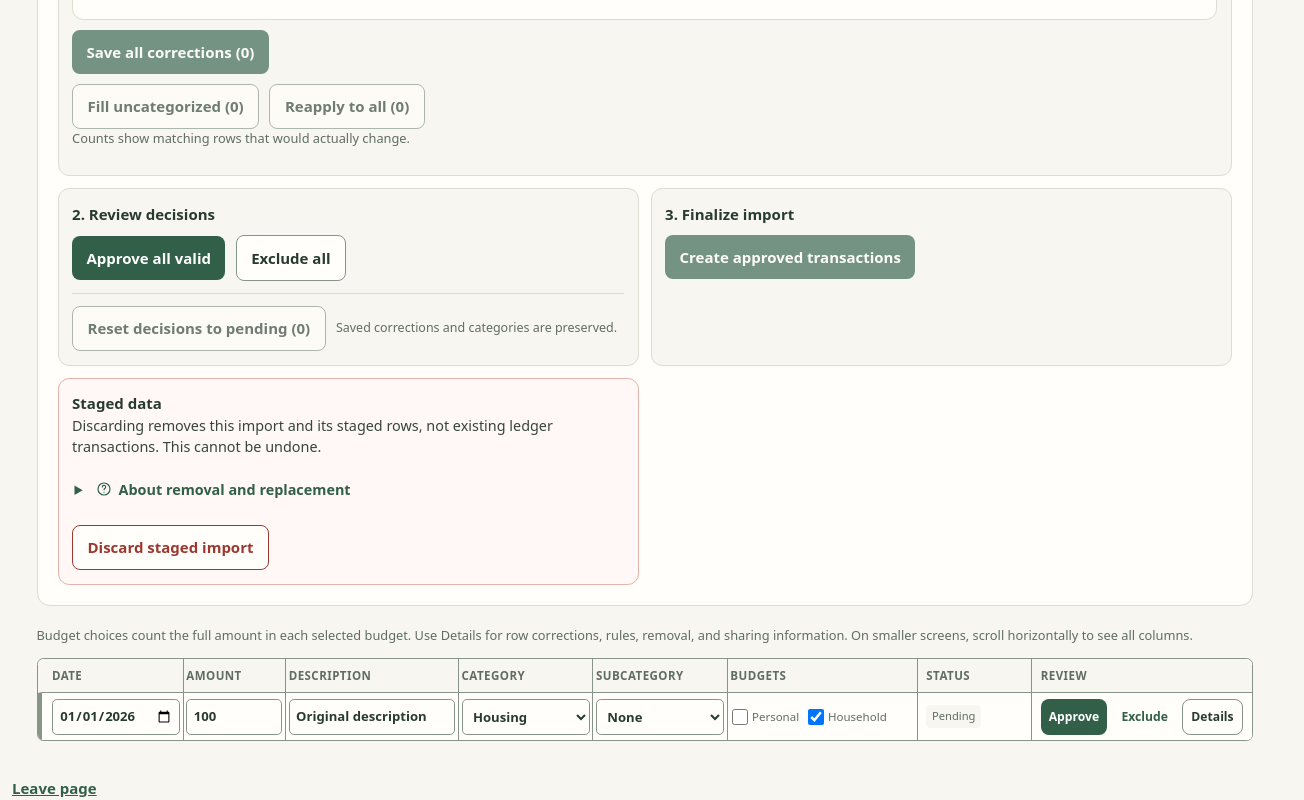
staged import edit protection › keeps corrections after a conflict and requires a read-only reload before another save
The width and height of the screenshot is (1304, 800).
(page scrolled)
Replace the text in the field named "Description" with "Keep conflict correction": (372, 717) [289,699,455,735]
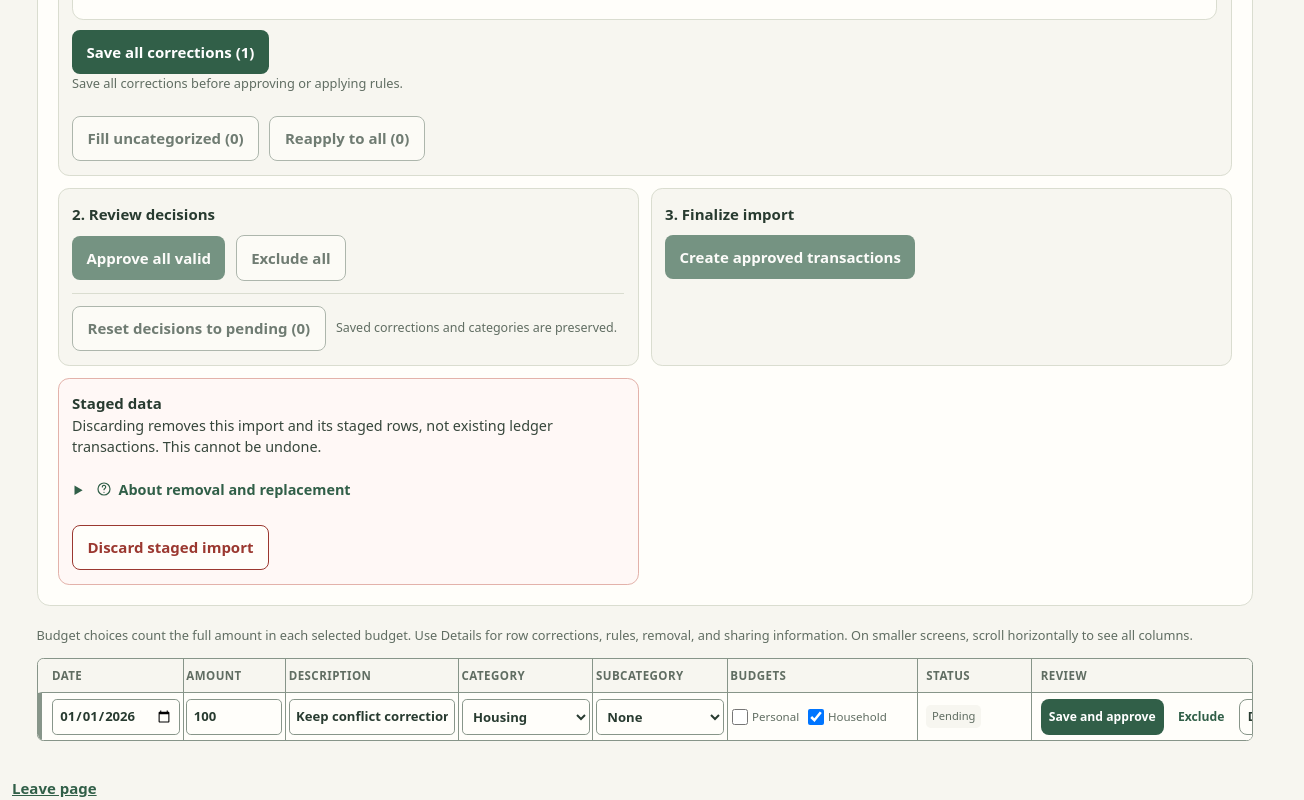
Click the button "Save all corrections (1)": click(170, 52) [72,30,269,74]
(page scrolled)
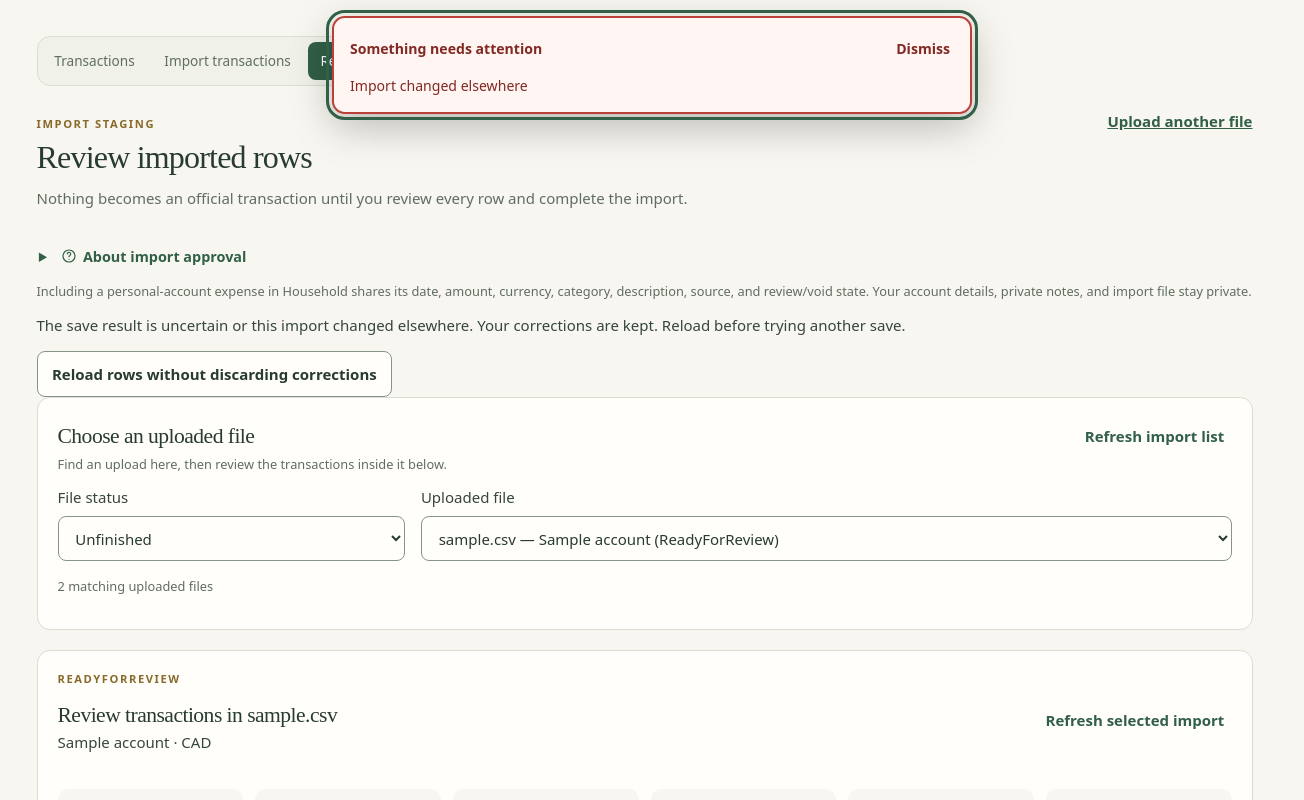
Click the button "Reload rows without discarding corrections": click(214, 374) [36,351,392,397]
(page scrolled)
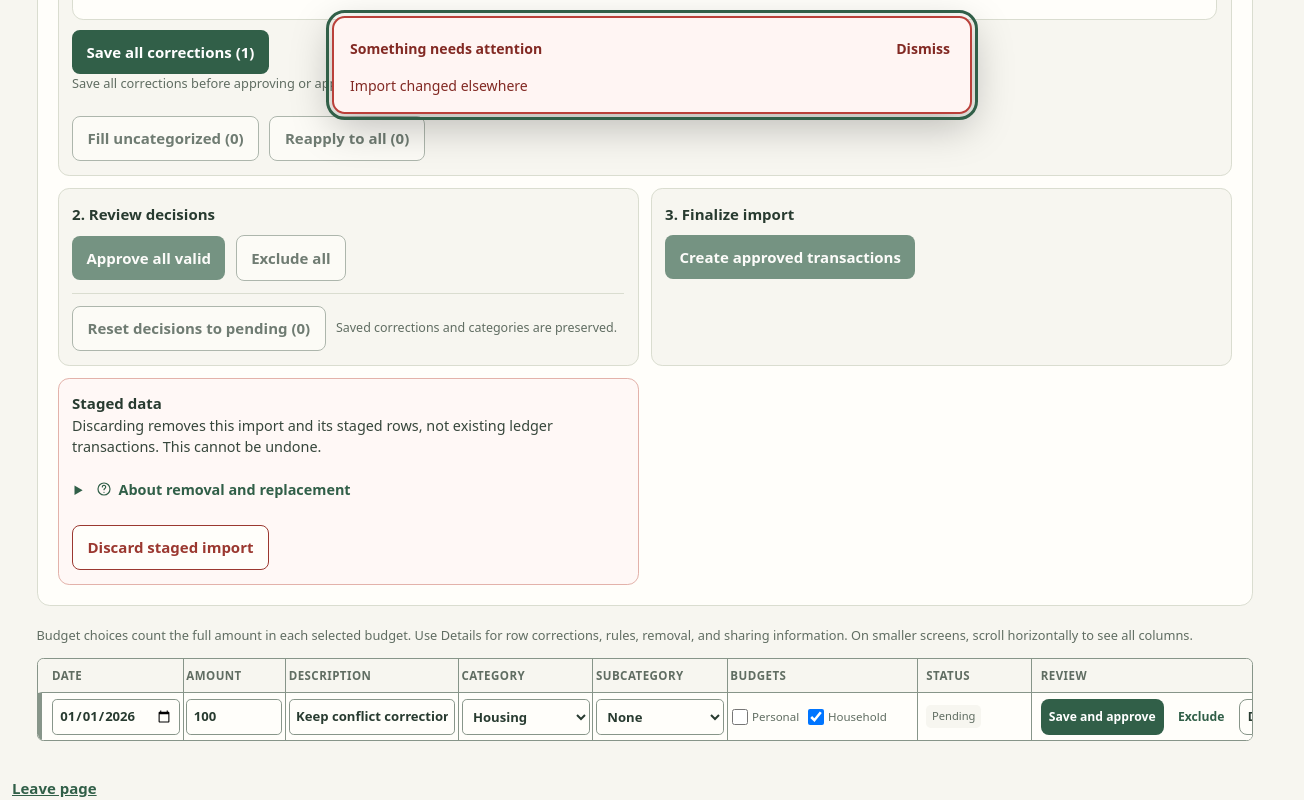
Expected: the button "Save all corrections (1)" is enabled, [72,30,269,74]
